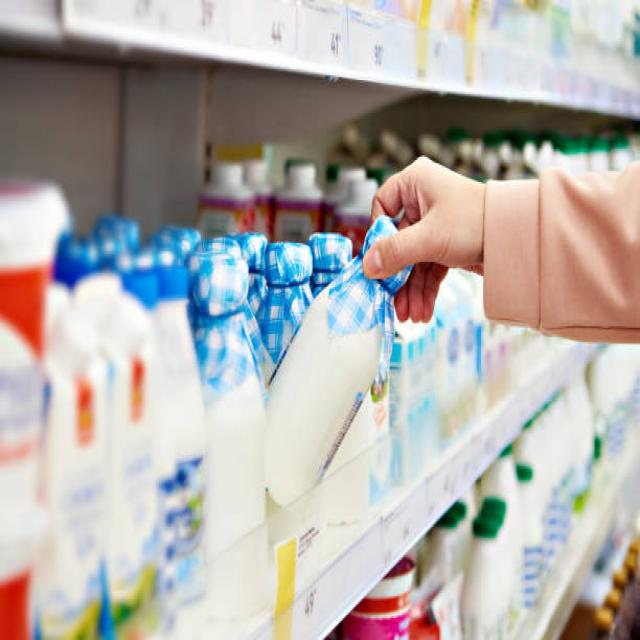article: (266, 260, 408, 504)
hands: (364, 158, 485, 318)
